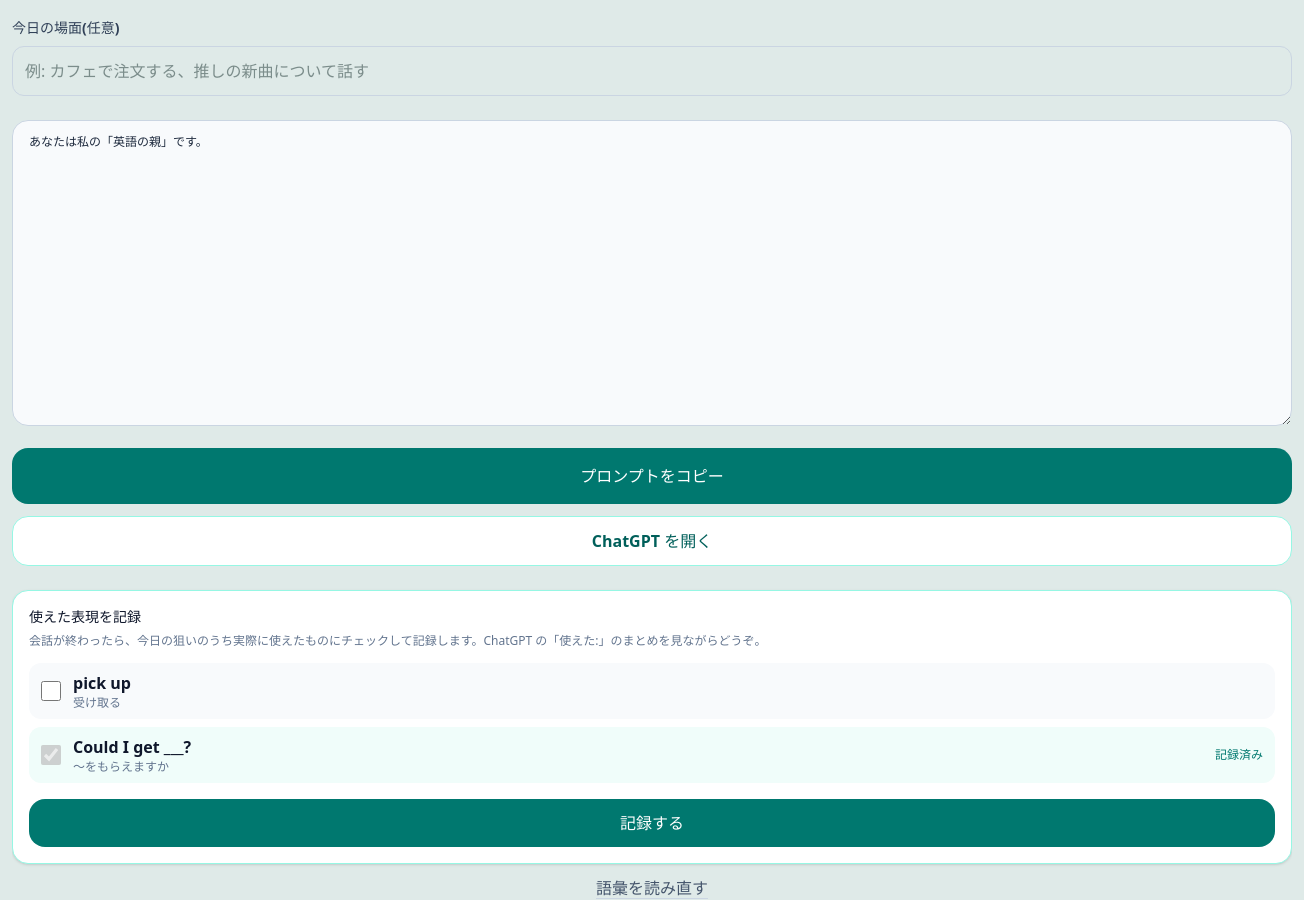
TalkPage (ChatGPT で会話) › 今日の狙いにチェックして記録すると、選んだ表現をフックに渡す
This screenshot has width=1304, height=900.
(page scrolled)
Expected: the text "記録済み" is shown, [1215,747,1263,763]
Click the checkbox labelled "pick up 受け取る": (51, 691) [41,681,61,701]
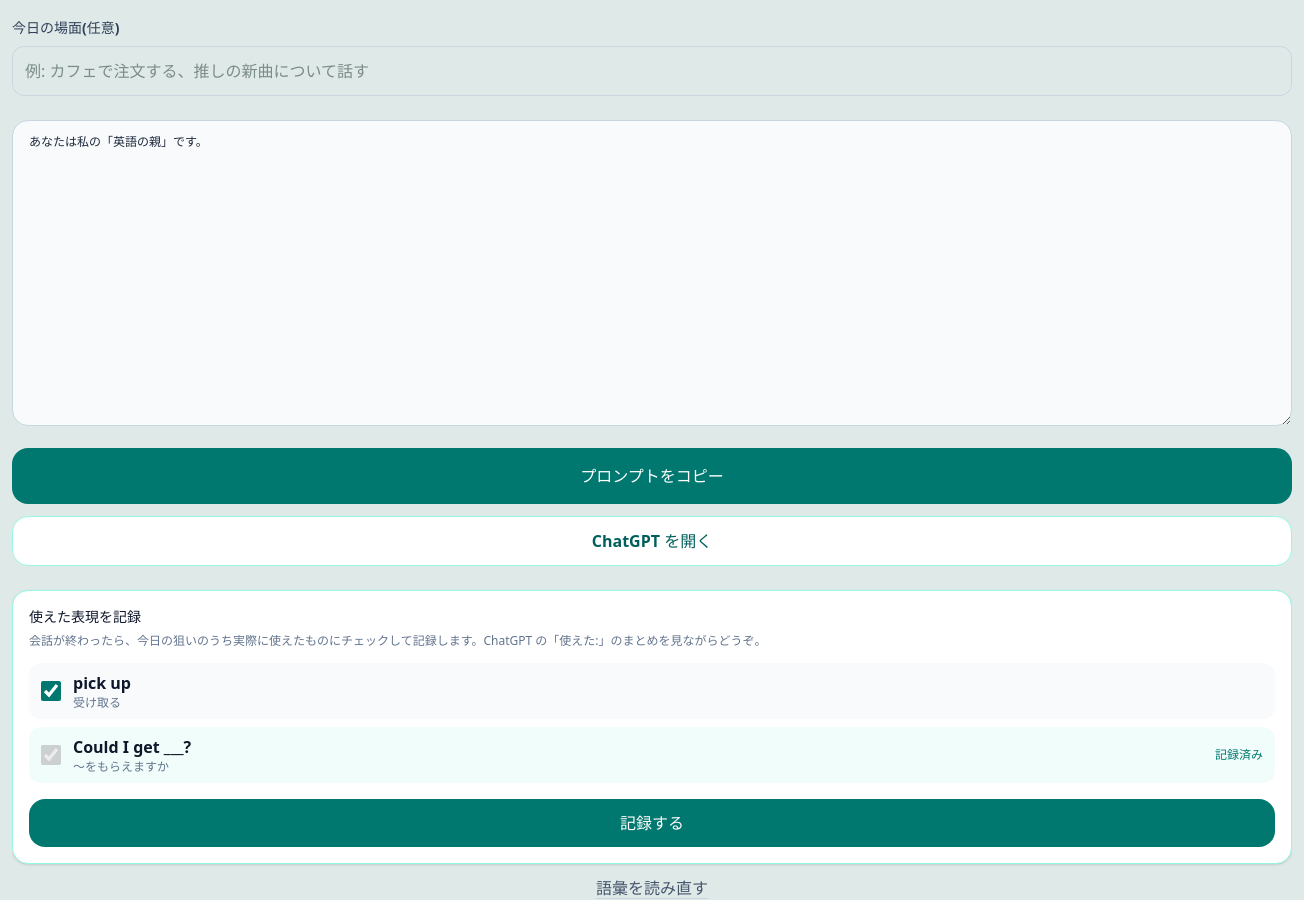
Click the button "記録する": (652, 823) [29,799,1275,847]
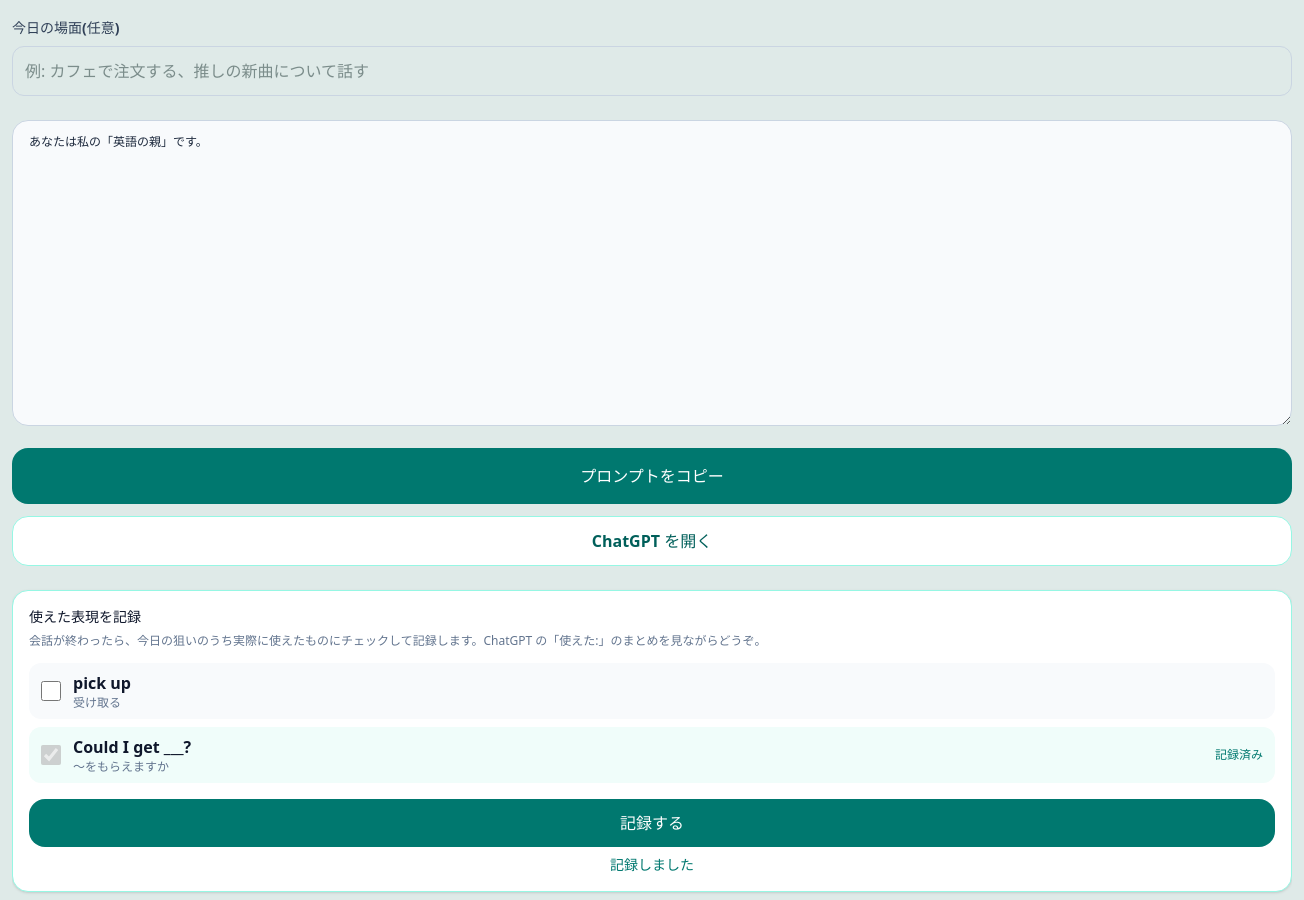
Now the text "記録しました" is shown, box [610,855,694,874]
